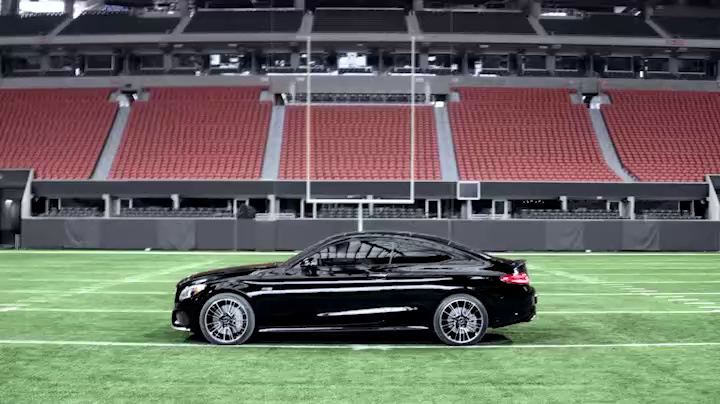amg: (167, 228, 540, 349)
